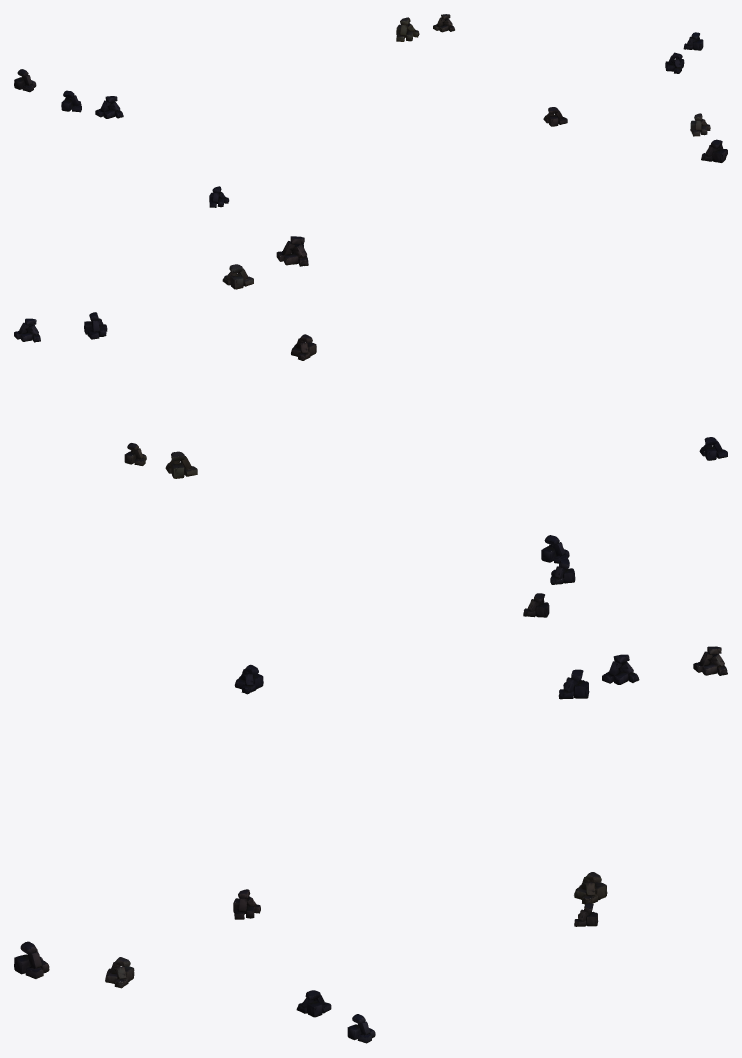
The model's file is dg_rubble_large.glb.
3 views of the same model, one above another, from view 1: azimuth 30°, elevation 25°; view 2: azimuth 150°, elevation 25°; view 3: azimuth 270°, elevation 25° (orthographic). The views are drawn at different scales.
Parts seen in each view (by area): view 1: COL_DGP_RUBBLE_LARGE; view 2: COL_DGP_RUBBLE_LARGE; view 3: COL_DGP_RUBBLE_LARGE.
Part boxes in pixels (<box>): COL_DGP_RUBBLE_LARGE: <box>14,14,727,207</box>; COL_DGP_RUBBLE_LARGE: <box>14,236,727,617</box>; COL_DGP_RUBBLE_LARGE: <box>14,646,727,1043</box>.
Bounding box in the file's own units: 45.74 × 1.45 × 36.35.
Materials: 1 (1 with a texture image).
